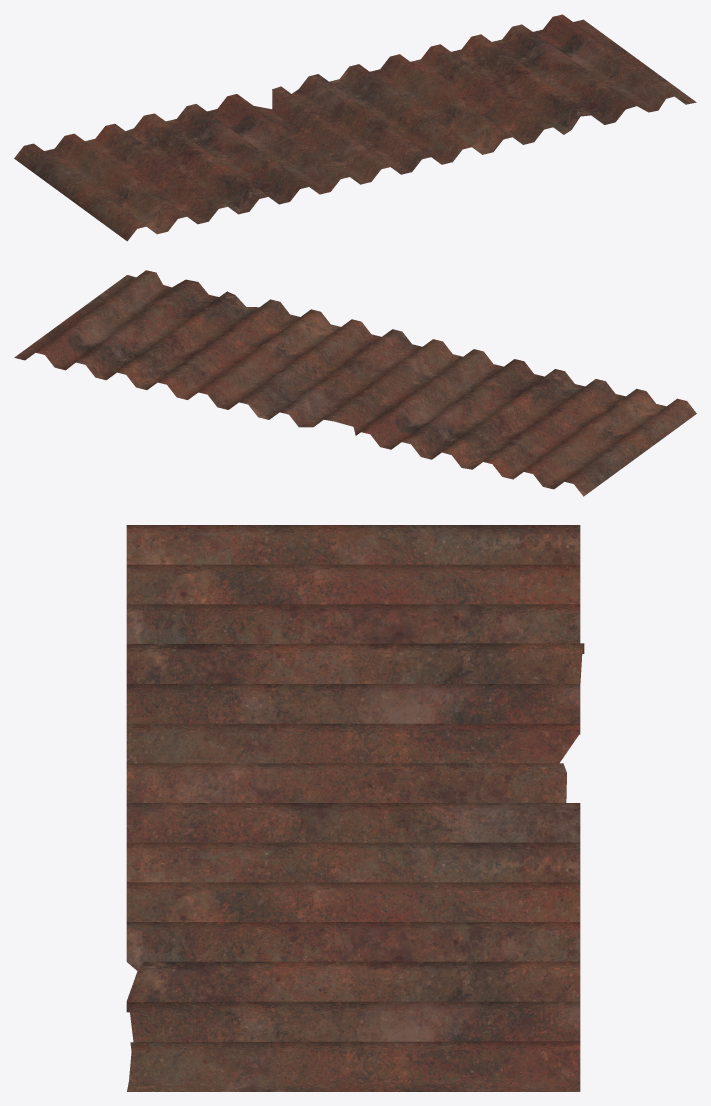
Rendered from SM_corrugated_metal_04.gltf.
3 renders of one model, top to bottom at view 1: azimuth 30°, elevation 25°; view 2: azimuth 150°, elevation 25°; view 3: azimuth 270°, elevation 25°, orthographic. The views are drawn at different scales.
Parts seen in each view (by area): view 1: SM_corrugated_metal_04; view 2: SM_corrugated_metal_04; view 3: SM_corrugated_metal_04.
Boxes of the visible parts, left/top/right/bottom form: SM_corrugated_metal_04: left=14, top=14, right=696, bottom=241; SM_corrugated_metal_04: left=14, top=270, right=696, bottom=496; SM_corrugated_metal_04: left=126, top=525, right=584, bottom=1091.
Size of the model in its own units: 2.9 by 0.05 by 1.01.
1 material, 1 textured.
